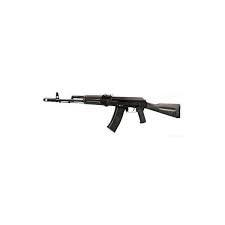larga: (42, 92, 182, 134)
